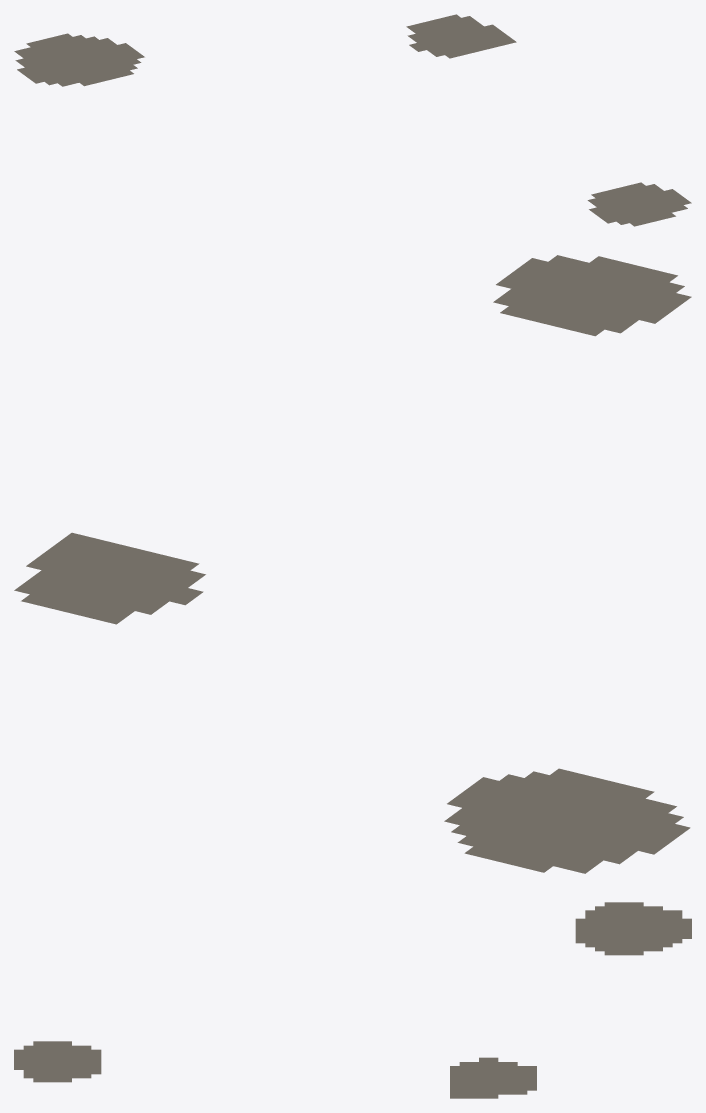
The model's file is Isl-flat5-RocksArea.fbx.
The picture shows the model from 3 angles, top to bottom: view 1: azimuth 30°, elevation 25°; view 2: azimuth 150°, elevation 25°; view 3: azimuth 270°, elevation 25°; orthographic projection. The views are drawn at different scales.
Visible parts, largest first — view 1: Isl-flat5-RocksArea; view 2: Isl-flat5-RocksArea; view 3: Isl-flat5-RocksArea.
Boxes of the visible parts, x1,y1,x2,y2 form: Isl-flat5-RocksArea: (14, 14, 691, 226); Isl-flat5-RocksArea: (14, 255, 691, 873); Isl-flat5-RocksArea: (14, 902, 691, 1098).
Size of the model in its own units: 48 by 0 by 70.
